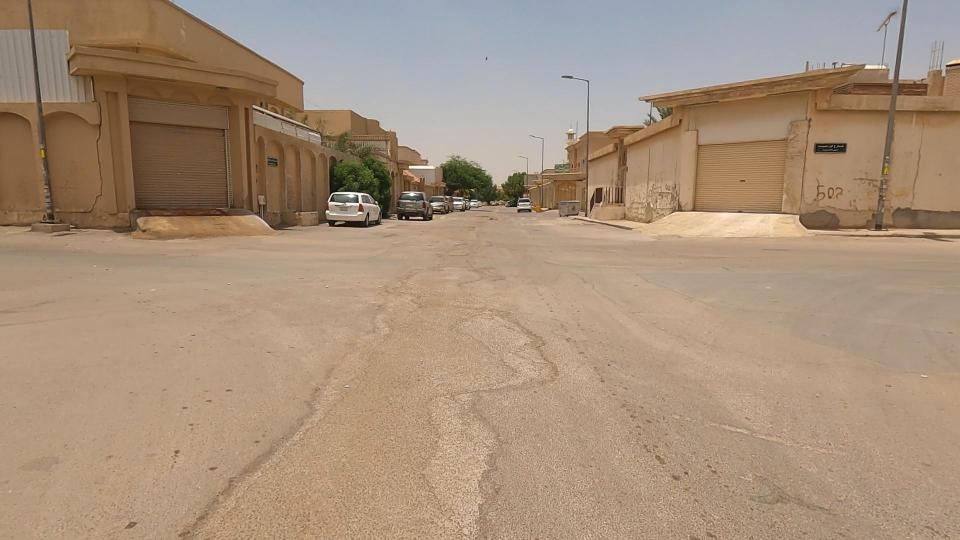POTHOLES: (394, 393, 573, 540), (469, 301, 584, 426), (412, 215, 507, 317), (457, 201, 525, 238)
